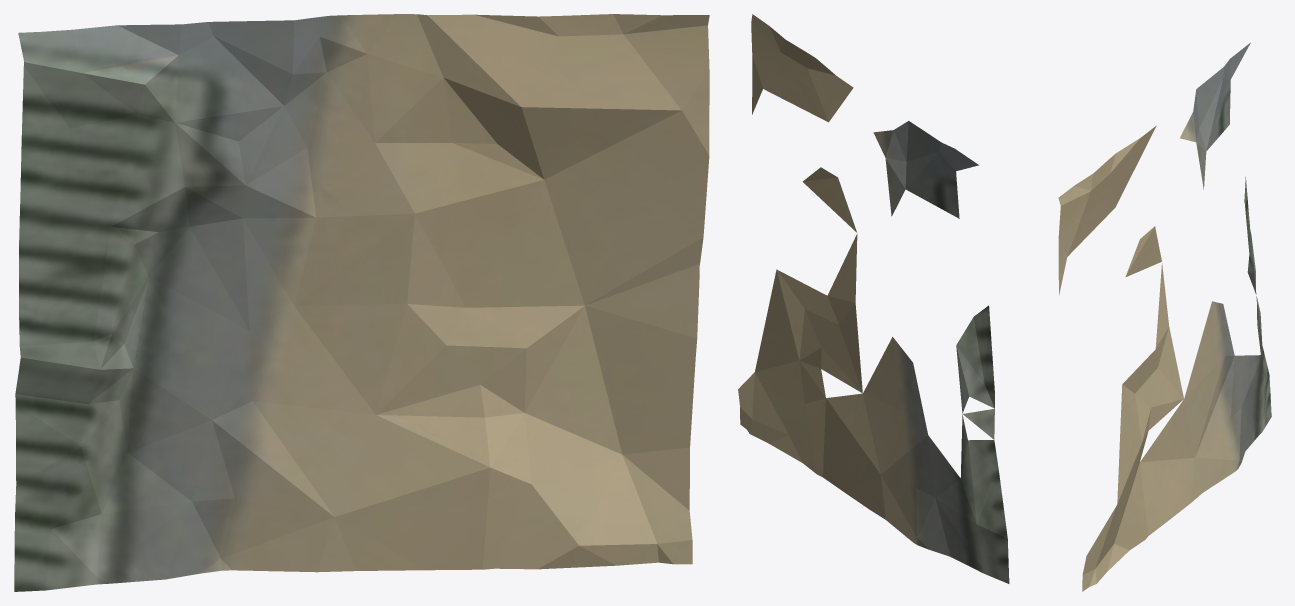
3 views of the same model, side by side, from view 1: azimuth 30°, elevation 25°; view 2: azimuth 150°, elevation 25°; view 3: azimuth 270°, elevation 25° (orthographic). The views are drawn at different scales.
Bounding box in the file's own units: 0.8374 × 0.8374 × 0.428.
3 materials, 3 textured.
